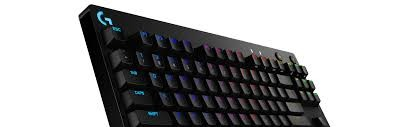keyboard: (72, 0, 341, 126)
